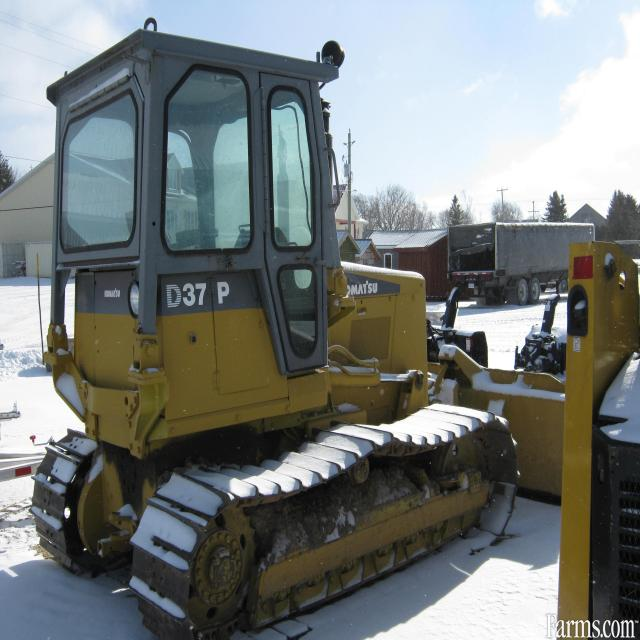Bulldozer: (23, 14, 595, 638)
